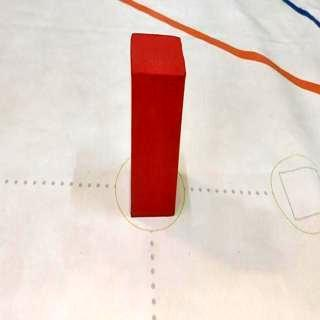redbox: (130, 30, 186, 217)
